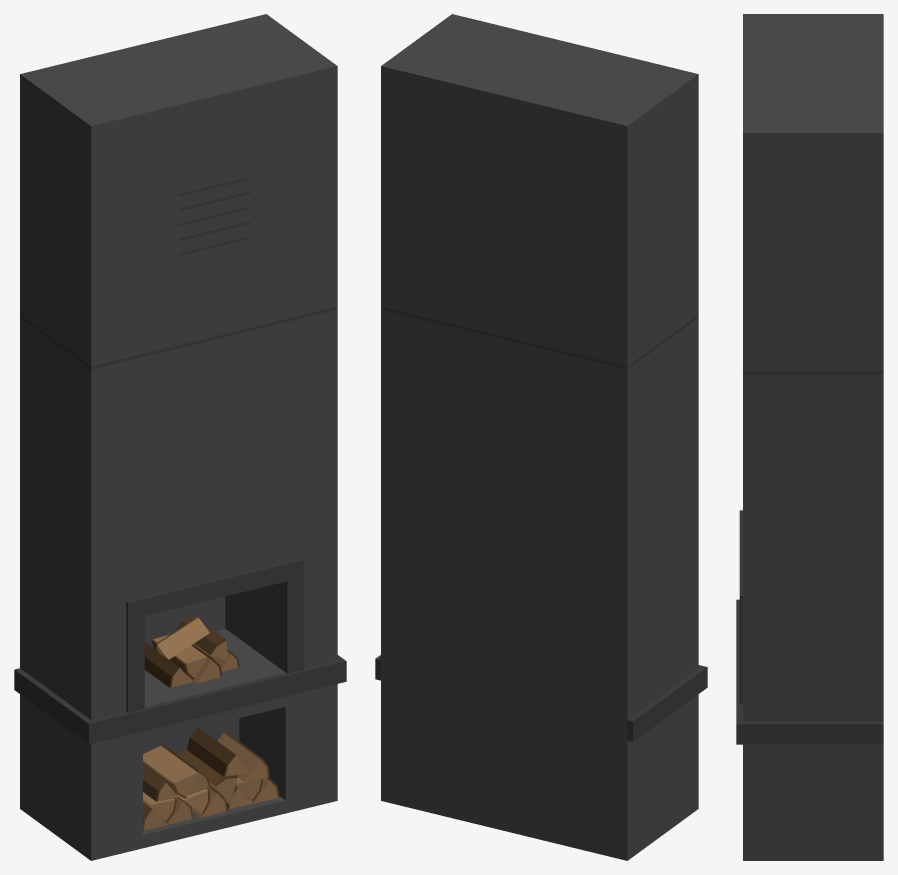
File: Fireplace_01.fbx
3 renders of one model, left to right at view 1: azimuth 30°, elevation 25°; view 2: azimuth 150°, elevation 25°; view 3: azimuth 270°, elevation 25°, orthographic.
Parts seen in each view (by area): view 1: Fireplace_01; view 2: Fireplace_01; view 3: Fireplace_01.
Part boxes in pixels (<box>): Fireplace_01: <box>14,14,346,860</box>; Fireplace_01: <box>375,14,707,860</box>; Fireplace_01: <box>736,14,883,860</box>.
Size of the model in its own units: 105 by 285 by 52.34.
